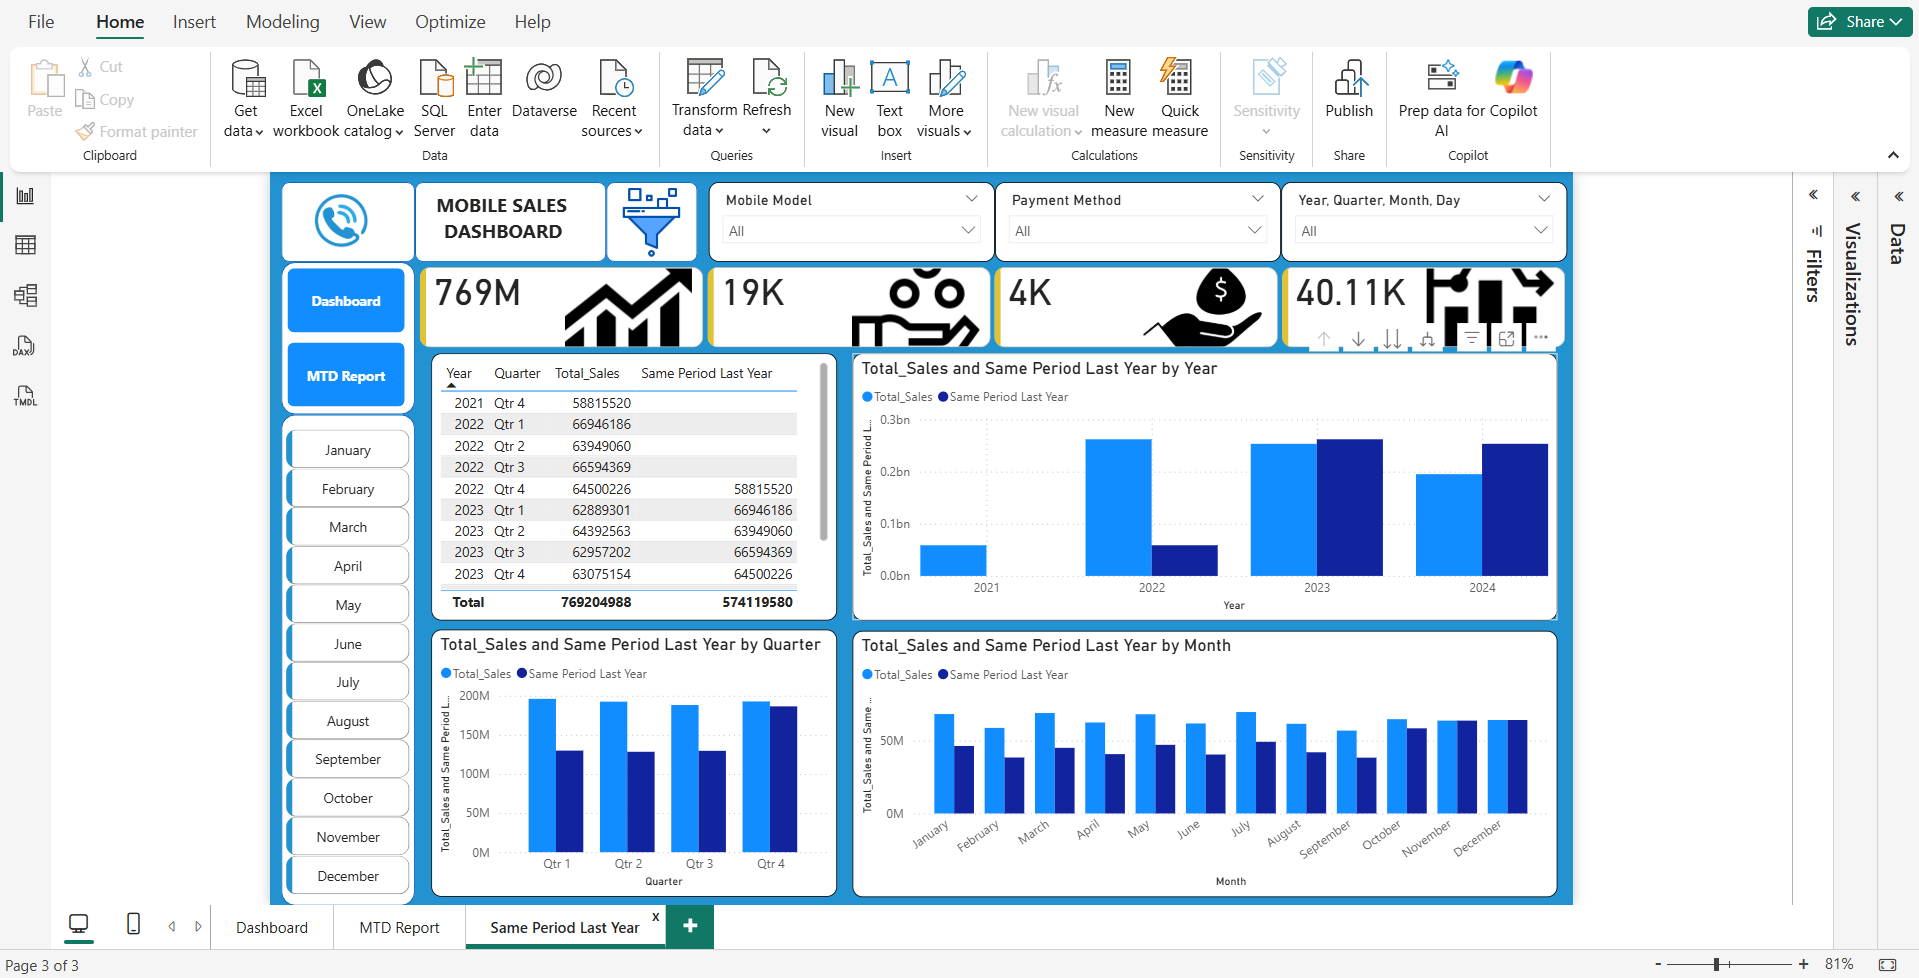

The dashboard page shown, as its layout file describes it:
{"tool":"powerbi","page":{"name":"Same Period Last Year","canvas":[1280,720],"ordinal":2},"visuals":[{"type":"shape","box":[11,238,131.3,482.2],"z":0},{"type":"shape","box":[11,9.8,131.3,78.5],"z":1000},{"type":"image","box":[17.2,14.7,105.5,67.5],"z":2000},{"type":"shape","box":[11,88.3,131.3,149.7],"z":3000},{"type":"cardVisual","fields":{"Data":["Mobile_Sales_Data.Total_Sales","Mobile_Sales_Data.Total_Quantity","Mobile_Sales_Data.Transactions","Mobile_Sales_Data.Average_Price"]},"box":[142.3,88.3,1137.4,89.6],"z":4000},{"type":"slicer","fields":{"Values":["Mobile_Sales_Data.Mobile Model"]},"box":[430.7,9.8,281,78.5],"z":5000},{"type":"slicer","fields":{"Values":["Mobile_Sales_Data.Payment Method"]},"box":[711.7,9.8,281,78.5],"z":6000},{"type":"slicer","fields":{"Values":["Custom_Calender.Date.Variation.Date Hierarchy.Year","Custom_Calender.Date.Variation.Date Hierarchy.Quarter","Custom_Calender.Date.Variation.Date Hierarchy.Month","Custom_Calender.Date.Variation.Date Hierarchy.Day"]},"box":[992.6,9.8,281,78.5],"z":7000},{"type":"shape","box":[330.1,9.8,89.6,78.5],"z":8000},{"type":"image","box":[330.1,9.8,88.3,79.8],"z":9000},{"type":"shape","box":[142.3,9.8,187.7,78.5],"z":10000},{"type":"textbox","box":[158.3,14.7,141.1,67.5],"z":11000},{"type":"advancedSlicerVisual","fields":{"Values":["Custom_Calender.Date.Variation.Date Hierarchy.Month"]},"box":[11,247.9,131.3,472.4],"z":12000},{"type":"tableEx","fields":{"Values":["Custom_Calender.Date.Variation.Date Hierarchy.Year","Custom_Calender.Date.Variation.Date Hierarchy.Quarter","Mobile_Sales_Data.Total_Sales","Mobile_Sales_Data.Same Period Last Year"]},"box":[158.3,177.9,398.8,262.6],"z":13000},{"type":"clusteredColumnChart","fields":{"Category":["Custom_Calender.Date.Variation.Date Hierarchy.Year","Custom_Calender.Date.Variation.Date Hierarchy.Quarter"],"Y":["Mobile_Sales_Data.Total_Sales","Mobile_Sales_Data.Same Period Last Year"]},"box":[571.8,177.9,692,262.6],"z":14000},{"type":"clusteredColumnChart","fields":{"Y":["Mobile_Sales_Data.Total_Sales","Mobile_Sales_Data.Same Period Last Year"],"Category":["Custom_Calender.Date.Variation.Date Hierarchy.Year","Custom_Calender.Date.Variation.Date Hierarchy.Quarter","Custom_Calender.Date.Variation.Date Hierarchy.Month","Custom_Calender.Date.Variation.Date Hierarchy.Day"]},"box":[571.8,450.3,692,261.4],"z":15000},{"type":"clusteredColumnChart","fields":{"Category":["Custom_Calender.Date.Variation.Date Hierarchy.Year","Custom_Calender.Date.Variation.Date Hierarchy.Quarter"],"Y":["Mobile_Sales_Data.Total_Sales","Mobile_Sales_Data.Same Period Last Year"]},"box":[158.3,449.1,398.8,262.6],"z":15001},{"type":"pageNavigator","box":[17.2,94.5,115.3,136.2],"z":15002}]}

Visuals, with their boxes on the page's 1280x720 design canvas (x1, y1, x2, y2). These are canvas units, not pixel positions in the 1919x978 screenshot, which may show the page scaled, cropped or inside an application window:
shape: {"x1": 11, "y1": 238, "x2": 142, "y2": 720}
shape: {"x1": 11, "y1": 10, "x2": 142, "y2": 88}
image: {"x1": 17, "y1": 15, "x2": 123, "y2": 82}
shape: {"x1": 11, "y1": 88, "x2": 142, "y2": 238}
cardVisual - Mobile_Sales_Data.Total_Sales x Mobile_Sales_Data.Total_Quantity: {"x1": 142, "y1": 88, "x2": 1280, "y2": 178}
slicer - Mobile_Sales_Data.Mobile Model: {"x1": 431, "y1": 10, "x2": 712, "y2": 88}
slicer - Mobile_Sales_Data.Payment Method: {"x1": 712, "y1": 10, "x2": 993, "y2": 88}
slicer - Custom_Calender.Date.Variation.Date Hierarchy.Year x Custom_Calender.Date.Variation.Date Hierarchy.Quarter: {"x1": 993, "y1": 10, "x2": 1274, "y2": 88}
shape: {"x1": 330, "y1": 10, "x2": 420, "y2": 88}
image: {"x1": 330, "y1": 10, "x2": 418, "y2": 90}
shape: {"x1": 142, "y1": 10, "x2": 330, "y2": 88}
textbox: {"x1": 158, "y1": 15, "x2": 299, "y2": 82}
advancedSlicerVisual - Custom_Calender.Date.Variation.Date Hierarchy.Month: {"x1": 11, "y1": 248, "x2": 142, "y2": 720}
tableEx - Custom_Calender.Date.Variation.Date Hierarchy.Year x Custom_Calender.Date.Variation.Date Hierarchy.Quarter: {"x1": 158, "y1": 178, "x2": 557, "y2": 440}
clusteredColumnChart - Custom_Calender.Date.Variation.Date Hierarchy.Year x Custom_Calender.Date.Variation.Date Hierarchy.Quarter: {"x1": 572, "y1": 178, "x2": 1264, "y2": 440}
clusteredColumnChart - Mobile_Sales_Data.Total_Sales x Mobile_Sales_Data.Same Period Last Year: {"x1": 572, "y1": 450, "x2": 1264, "y2": 712}
clusteredColumnChart - Custom_Calender.Date.Variation.Date Hierarchy.Year x Custom_Calender.Date.Variation.Date Hierarchy.Quarter: {"x1": 158, "y1": 449, "x2": 557, "y2": 712}
pageNavigator: {"x1": 17, "y1": 94, "x2": 132, "y2": 231}
